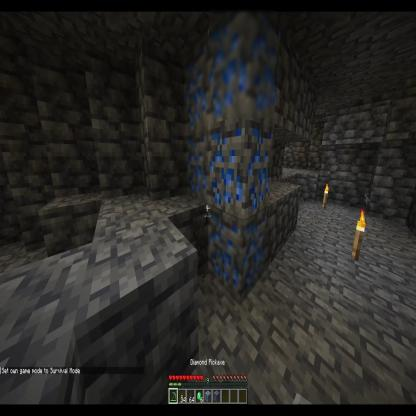lapis ore: (209, 7, 276, 118), (206, 202, 268, 310), (207, 122, 274, 218), (184, 36, 213, 137), (182, 116, 210, 205)
